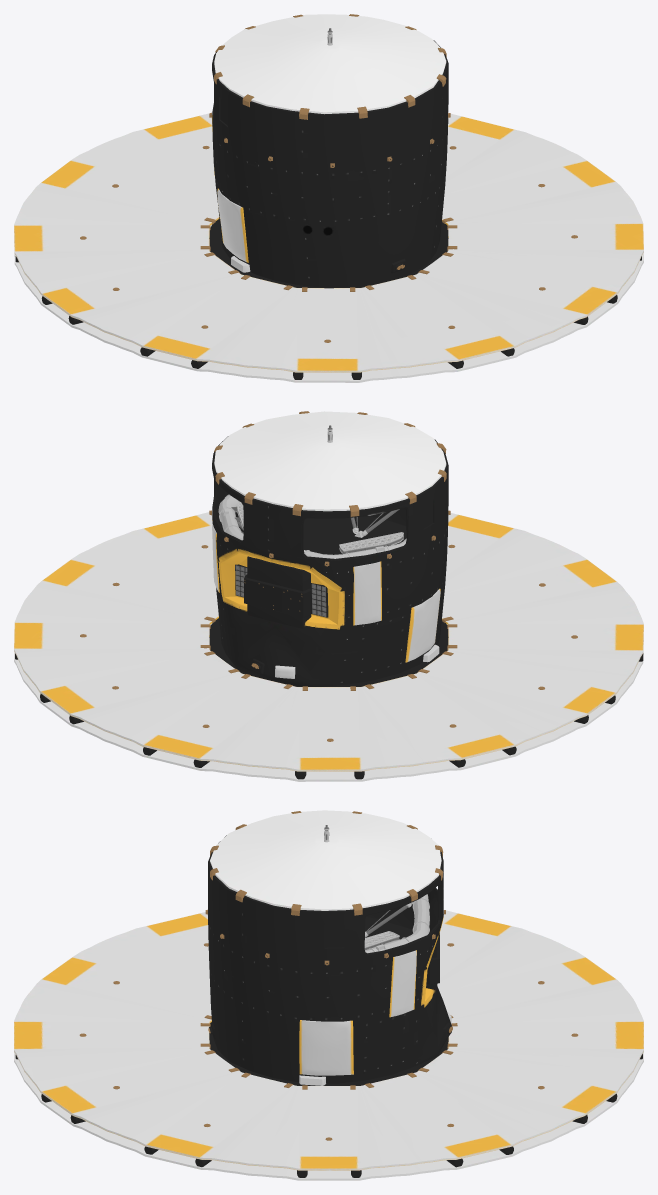
The model's file is gaia_esa.glb.
3 renders of one model, top to bottom at view 1: azimuth 30°, elevation 25°; view 2: azimuth 150°, elevation 25°; view 3: azimuth 270°, elevation 25°, orthographic.
Visible parts, largest first — view 1: SM_Gaia_low; view 2: SM_Gaia_low; view 3: SM_Gaia_low.
Boxes of the visible parts, x1,y1,x2,y2 form: SM_Gaia_low: [14, 14, 643, 382]; SM_Gaia_low: [14, 411, 643, 781]; SM_Gaia_low: [14, 810, 643, 1180].
Bounding box in the file's own units: 10 × 4.01 × 10.
2 materials, 2 textured.
